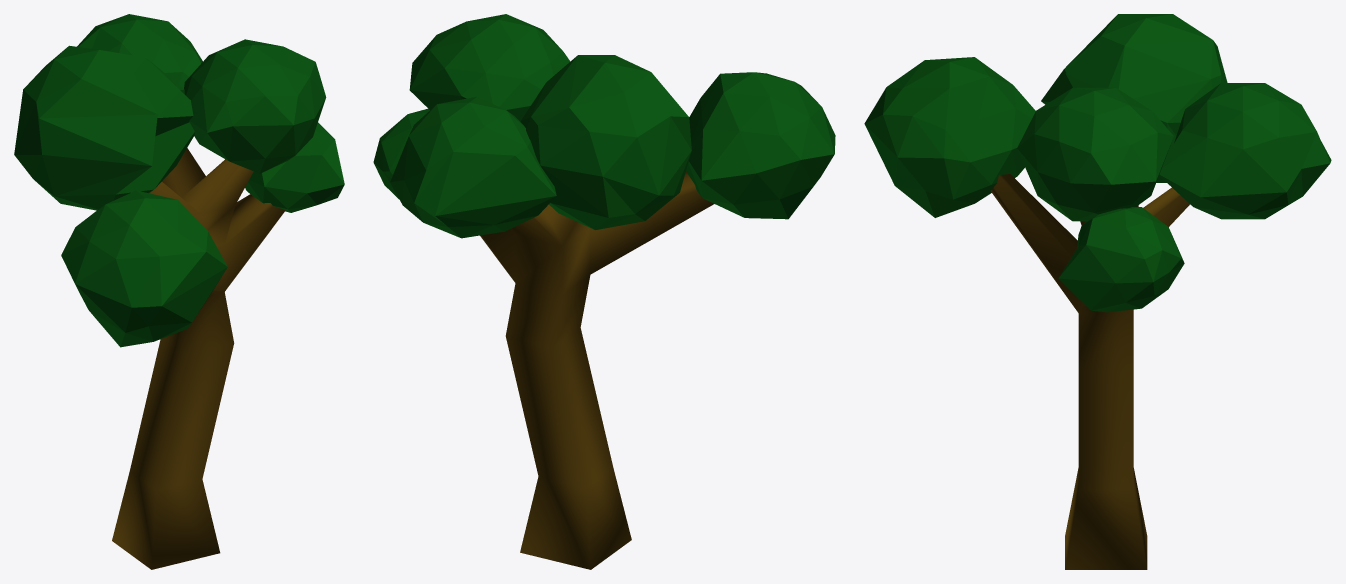
Rendered from three.glb.
3 renders of one model, left to right at view 1: azimuth 30°, elevation 25°; view 2: azimuth 150°, elevation 25°; view 3: azimuth 270°, elevation 25°, orthographic. The views are drawn at different scales.
Parts seen in each view (by area): view 1: Object_3, Object_2; view 2: Object_3, Object_2; view 3: Object_3, Object_2.
Boxes of the visible parts, x1=… form: Object_3: x1=14, y1=14, x2=344, y2=347; Object_2: x1=112, y1=148, x2=285, y2=569; Object_3: x1=373, y1=14, x2=835, y2=238; Object_2: x1=480, y1=172, x2=713, y2=569; Object_3: x1=864, y1=14, x2=1331, y2=312; Object_2: x1=991, y1=174, x2=1189, y2=569.
Size of the model in its own units: 10.02 by 13.74 by 11.39.
